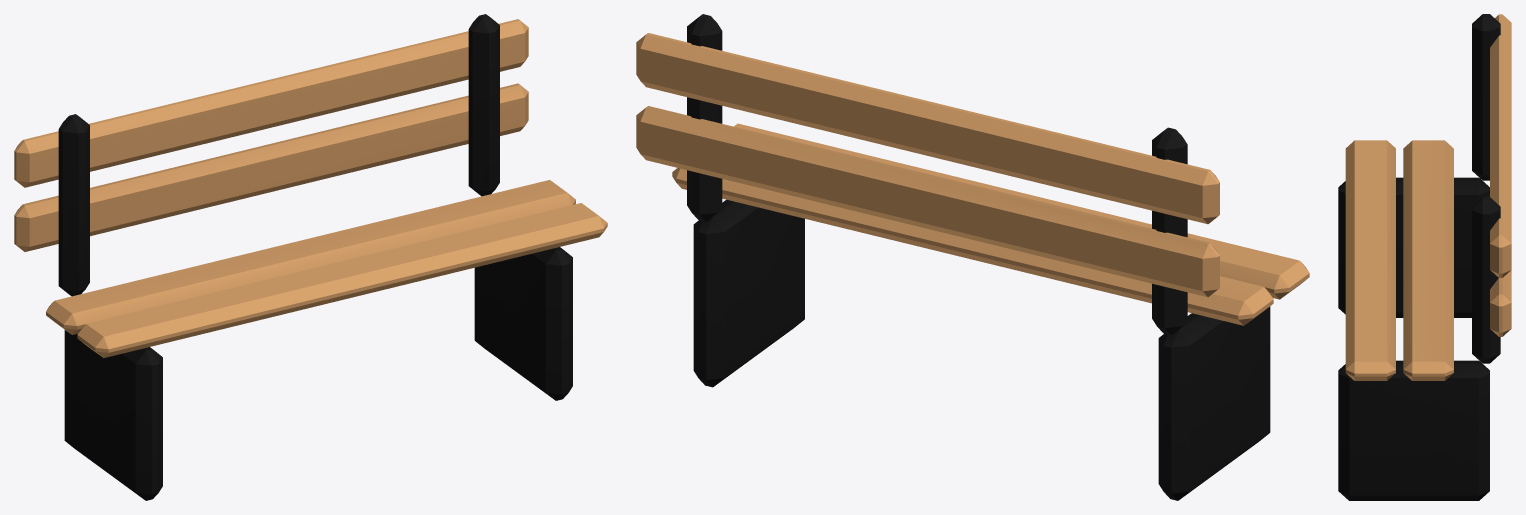
Rendered from bench.glb.
3 renders of one model, left to right at view 1: azimuth 30°, elevation 25°; view 2: azimuth 150°, elevation 25°; view 3: azimuth 270°, elevation 25°, orthographic. The views are drawn at different scales.
Parts seen in each view (by area): view 1: bench; view 2: bench; view 3: bench.
Boxes of the visible parts, x1,y1,x2,y2 form: bench: (14, 14, 607, 500); bench: (636, 14, 1309, 500); bench: (1338, 14, 1511, 500).
Bounding box in the file's own units: 1.5 × 0.92 × 0.48.
